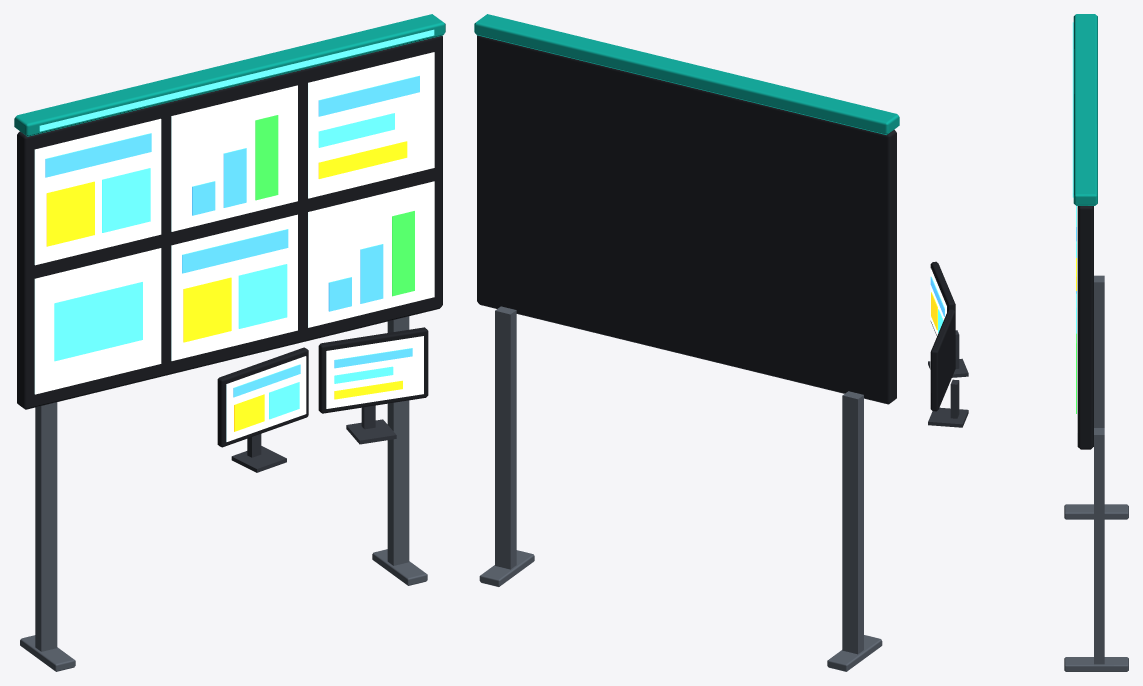
File: station_intake_ausstattung_1_3.glb
3 views of the same model, side by side, from view 1: azimuth 30°, elevation 25°; view 2: azimuth 150°, elevation 25°; view 3: azimuth 270°, elevation 25° (orthographic). The views are drawn at different scales.
Visible parts, largest first — view 1: station_intake_ausstattung_1_3; view 2: station_intake_ausstattung_1_3; view 3: station_intake_ausstattung_1_3.
Part boxes in pixels (x1=…): station_intake_ausstattung_1_3: x1=14, y1=14, x2=445, y2=671; station_intake_ausstattung_1_3: x1=474, y1=14, x2=899, y2=671; station_intake_ausstattung_1_3: x1=928, y1=14, x2=1128, y2=671.
Size of the model in its own units: 1.6 by 2 by 0.7455.
